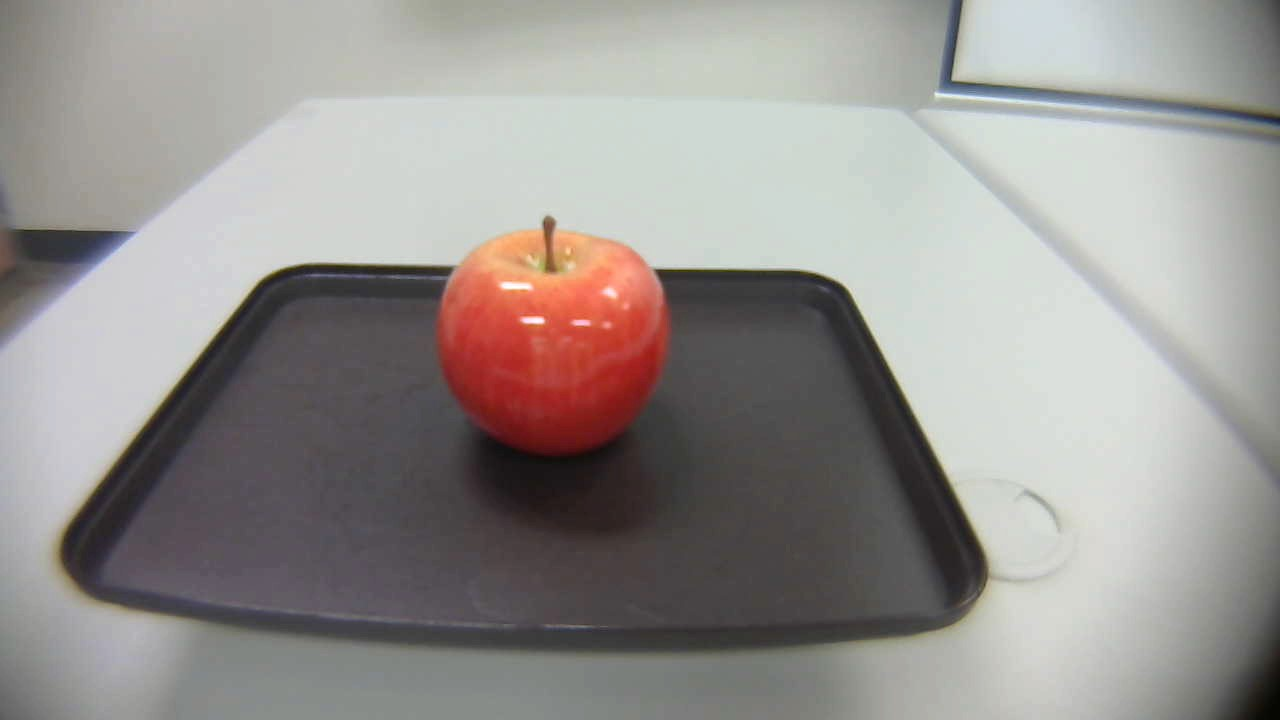red apple: (425, 216, 689, 464)
